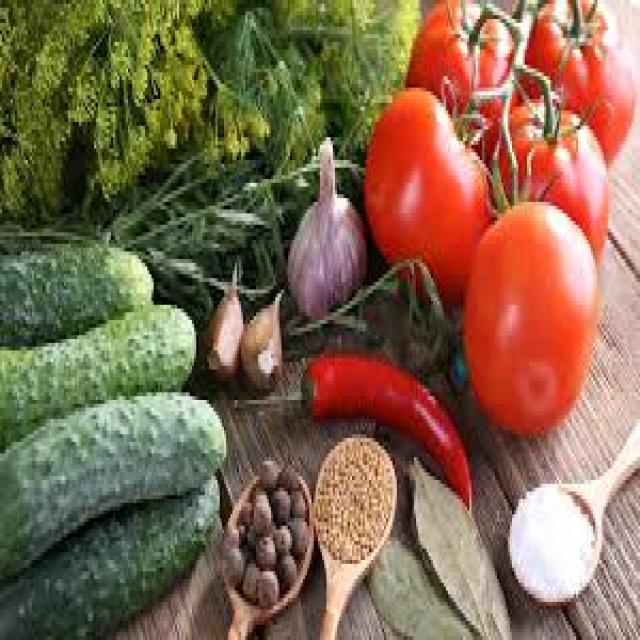organic waste: (0, 0, 262, 213), (0, 389, 226, 579), (461, 134, 597, 430), (0, 160, 279, 301), (0, 469, 218, 636), (230, 358, 472, 507), (0, 297, 194, 453), (220, 0, 418, 149), (358, 84, 488, 305), (489, 91, 608, 263), (516, 0, 634, 160), (407, 450, 508, 636), (0, 236, 151, 358), (404, 0, 518, 160), (284, 130, 362, 320), (364, 537, 474, 636), (506, 484, 591, 598), (316, 438, 388, 560), (201, 255, 241, 385), (239, 286, 282, 388), (410, 259, 448, 370), (380, 278, 424, 332), (337, 308, 390, 351), (254, 568, 277, 610), (269, 484, 290, 526), (220, 544, 239, 586), (239, 556, 258, 598), (254, 526, 273, 564), (292, 514, 310, 552), (256, 457, 277, 488), (290, 480, 307, 518), (276, 552, 294, 587), (218, 522, 241, 548), (275, 461, 297, 488), (252, 492, 266, 534), (273, 518, 290, 545), (245, 518, 254, 549), (237, 499, 250, 518), (237, 518, 245, 541)
